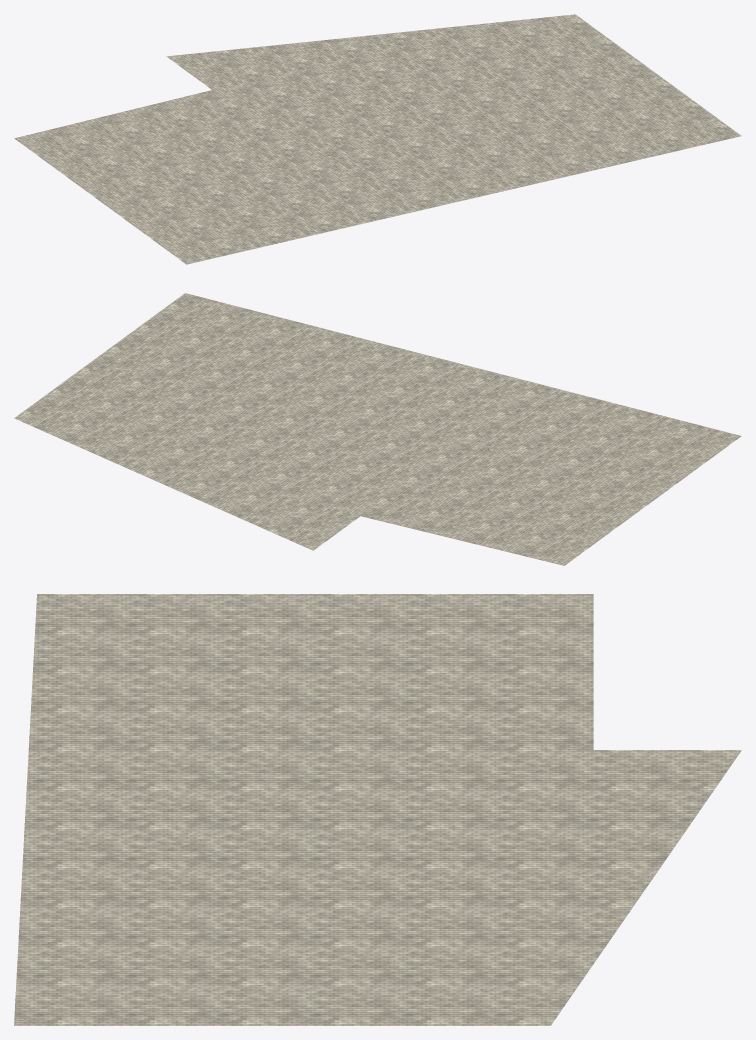
File: SM_Molo_Pav_Masselli_02.fbx
The picture shows the model from 3 angles, top to bottom: view 1: azimuth 30°, elevation 25°; view 2: azimuth 150°, elevation 25°; view 3: azimuth 270°, elevation 25°; orthographic projection. The views are drawn at different scales.
Visible parts, largest first — view 1: SM_Molo_Pav_Masselli_02; view 2: SM_Molo_Pav_Masselli_02; view 3: SM_Molo_Pav_Masselli_02.
Part boxes in pixels (left/top/right/bottom): SM_Molo_Pav_Masselli_02: left=14, top=14, right=741, bottom=264; SM_Molo_Pav_Masselli_02: left=14, top=293, right=741, bottom=565; SM_Molo_Pav_Masselli_02: left=14, top=594, right=741, bottom=1025.
Size of what is drawn, in the model's own units: 3100 by 2209 by 0.
1 material, 1 textured.
